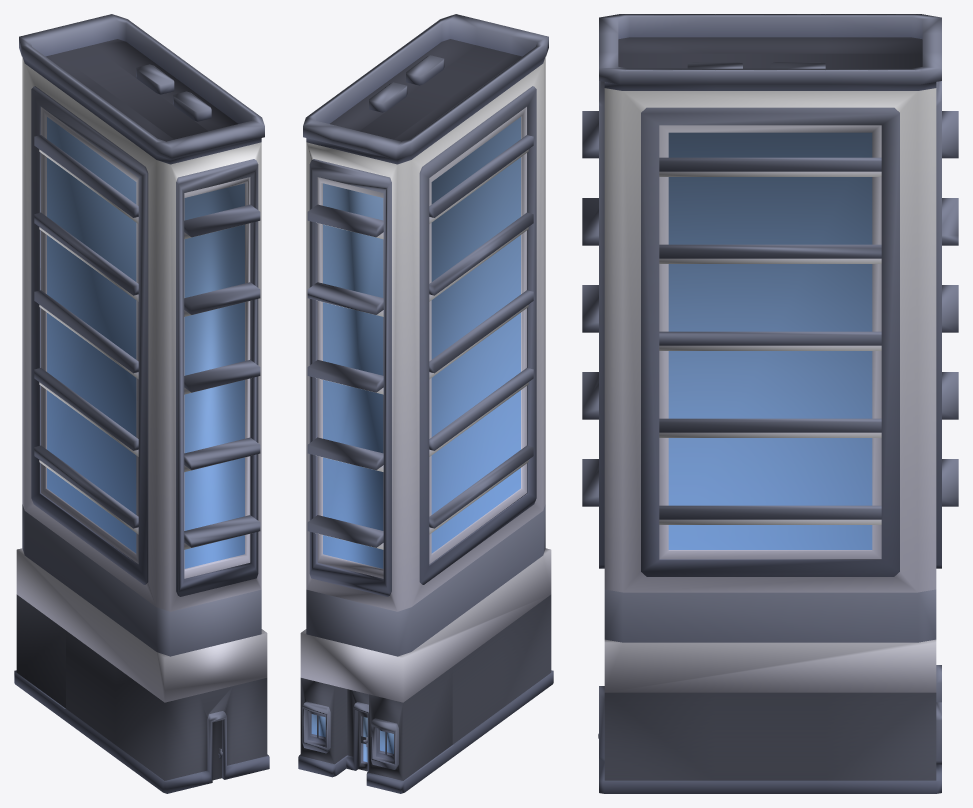
The model's file is building-skyscraper-a_lev1.glb.
3 views of the same model, side by side, from view 1: azimuth 30°, elevation 25°; view 2: azimuth 150°, elevation 25°; view 3: azimuth 270°, elevation 25° (orthographic). The views are drawn at different scales.
Visible parts, largest first — view 1: building-skyscraper-a_lev1; view 2: building-skyscraper-a_lev1; view 3: building-skyscraper-a_lev1.
Part boxes in pixels (x1,y1,x2,y2): building-skyscraper-a_lev1: [14, 14, 269, 793]; building-skyscraper-a_lev1: [298, 14, 553, 793]; building-skyscraper-a_lev1: [582, 14, 958, 793].
Bounding box in the file's own units: 2.72 × 14.4 × 6.8.
1 material, 1 textured.
